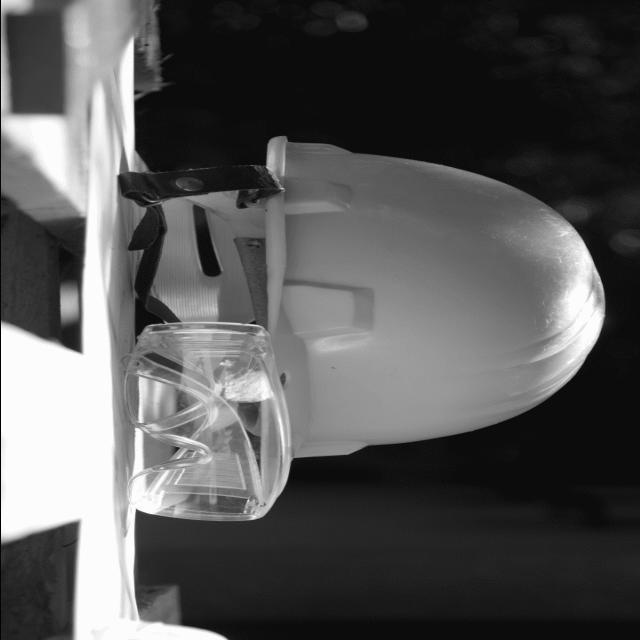safety_helmet: (258, 136, 604, 459)
